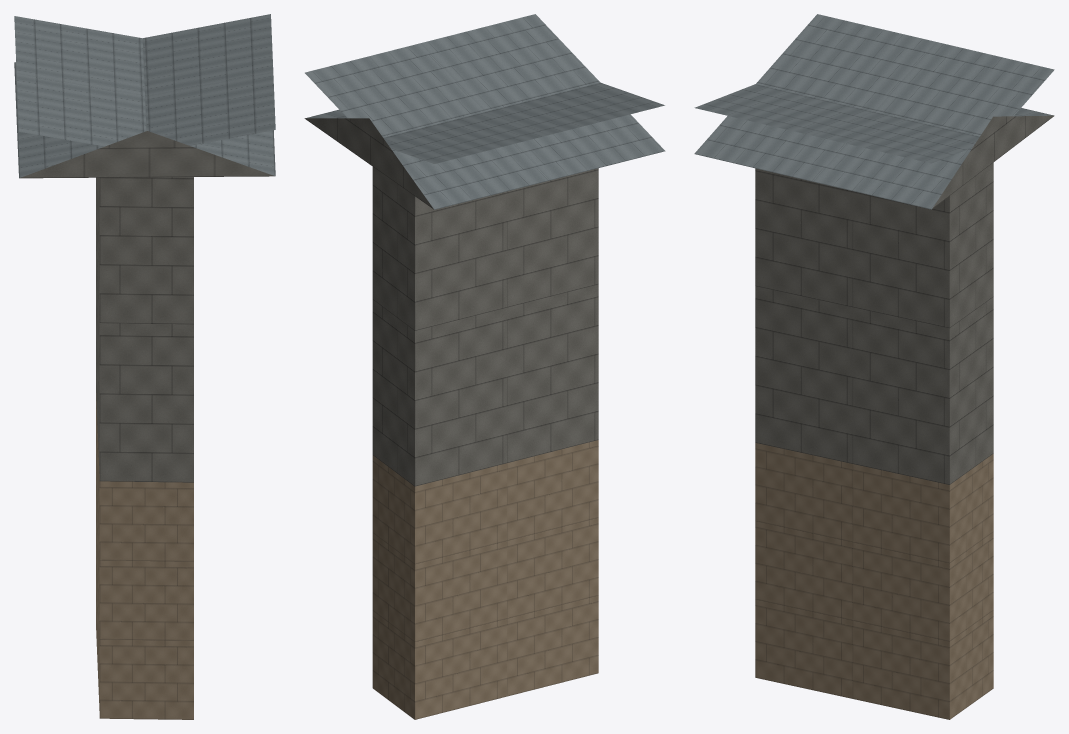
The model's file is bld_c-22_11_543.gltf.
3 views of the same model, side by side, from view 1: azimuth 30°, elevation 25°; view 2: azimuth 150°, elevation 25°; view 3: azimuth 270°, elevation 25° (orthographic).
Visible parts, largest first — view 1: bld_c-22_11_543; view 2: bld_c-22_11_543; view 3: bld_c-22_11_543.
Boxes of the visible parts, box(x1,y1,x2,y2) form: bld_c-22_11_543: box(14, 14, 275, 719); bld_c-22_11_543: box(304, 14, 665, 719); bld_c-22_11_543: box(694, 14, 1054, 719).
Bounding box in the file's own units: 6.96 × 12.9 × 7.1.
Materials: 4 (4 with a texture image).
